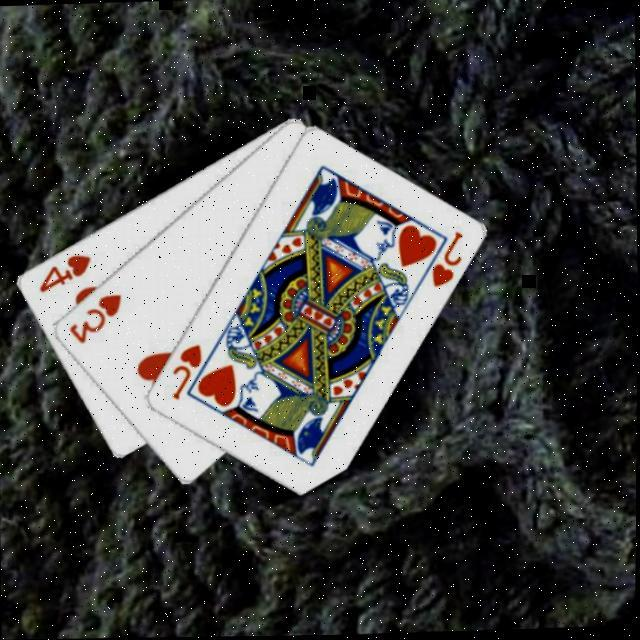3H: (66, 290, 126, 346)
4H: (36, 248, 96, 294)
JH: (428, 228, 468, 291), (169, 341, 208, 402)
